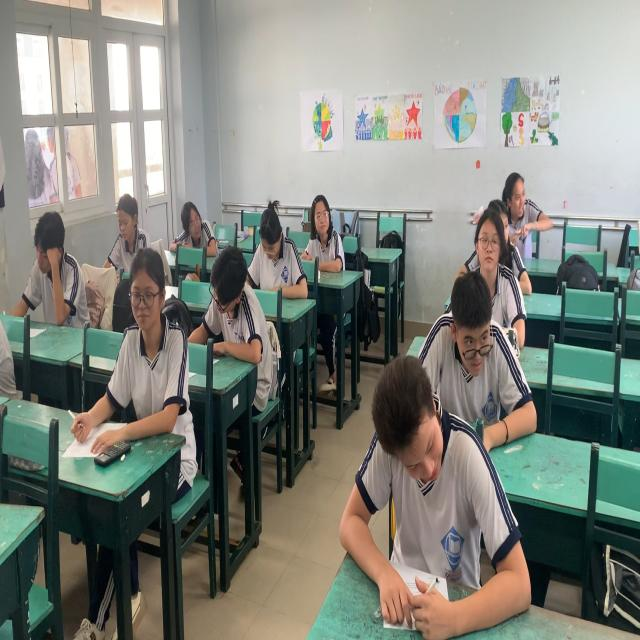cheating: (171, 201, 225, 260)
not_cheating: (340, 360, 490, 586), (427, 274, 517, 422), (110, 258, 178, 428), (24, 208, 86, 326), (462, 211, 517, 333), (204, 247, 258, 356), (497, 156, 548, 267), (242, 202, 303, 294), (301, 188, 350, 280), (108, 185, 149, 268)
